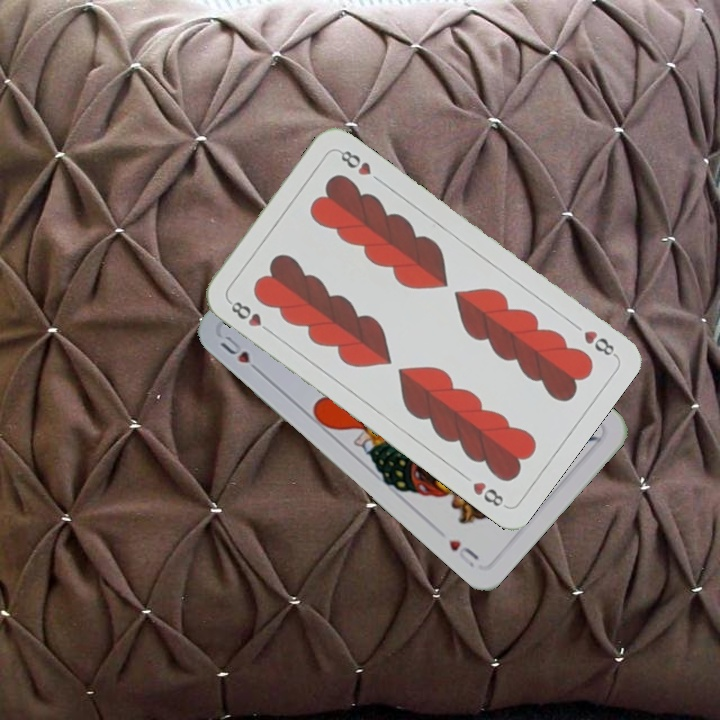H8: (224, 296, 275, 337), (579, 326, 619, 359)
HU: (216, 331, 265, 377)
